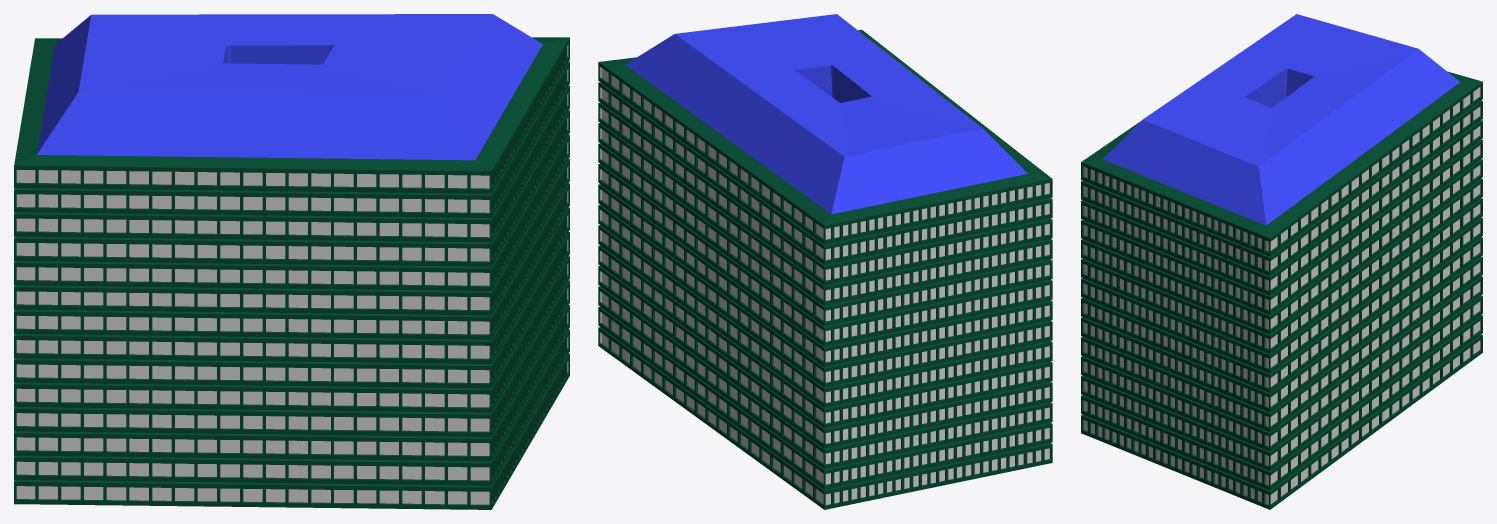
File: WestphaliaApartments.fbx
3 renders of one model, left to right at view 1: azimuth 30°, elevation 25°; view 2: azimuth 150°, elevation 25°; view 3: azimuth 270°, elevation 25°, orthographic. The views are drawn at different scales.
Visible parts, largest first — view 1: WestphaliaApartments; view 2: WestphaliaApartments; view 3: WestphaliaApartments.
Part boxes in pixels (bbox=[...]): WestphaliaApartments: bbox=[14, 14, 569, 509]; WestphaliaApartments: bbox=[598, 14, 1052, 509]; WestphaliaApartments: bbox=[1081, 14, 1482, 509].
Size of the model in its own units: 7078 by 4778 by 5604.
